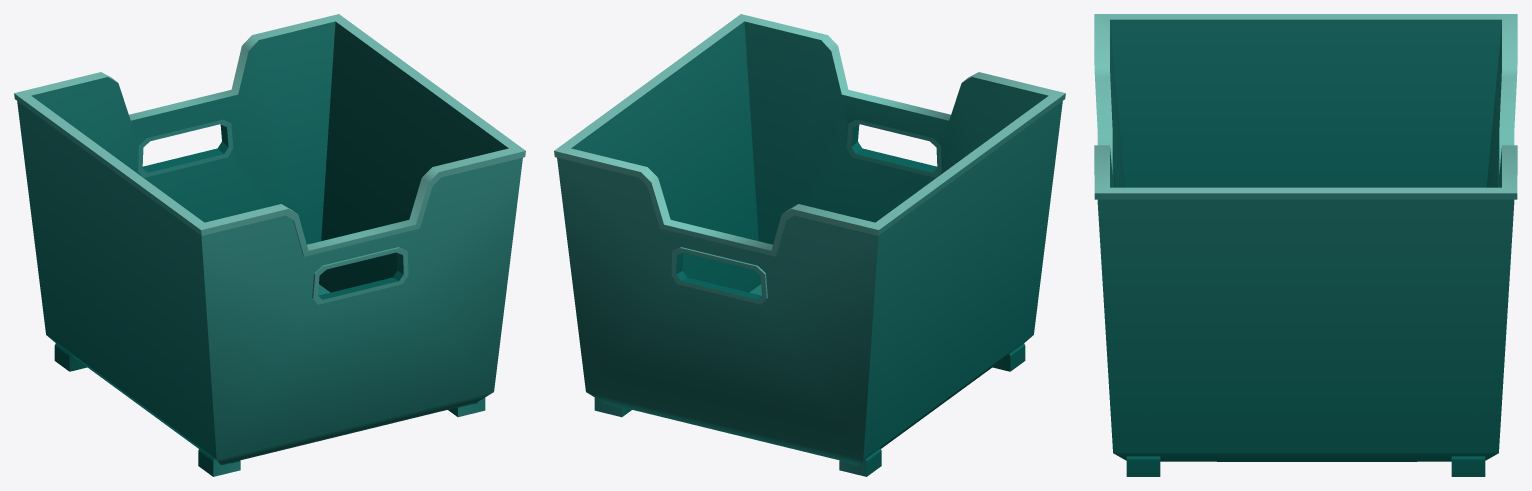
The model's file is CR_Basket_001.FBX.
The picture shows the model from 3 angles, left to right: view 1: azimuth 30°, elevation 25°; view 2: azimuth 150°, elevation 25°; view 3: azimuth 270°, elevation 25°; orthographic projection. The views are drawn at different scales.
Parts seen in each view (by area): view 1: CR_Basket_001; view 2: CR_Basket_001; view 3: CR_Basket_001.
Boxes of the visible parts, x1,y1,x2,y2 form: CR_Basket_001: (14,14,525,476); CR_Basket_001: (554,14,1065,476); CR_Basket_001: (1094,14,1517,476).
Bounding box in the file's own units: 9.33 × 7.23 × 9.3.
